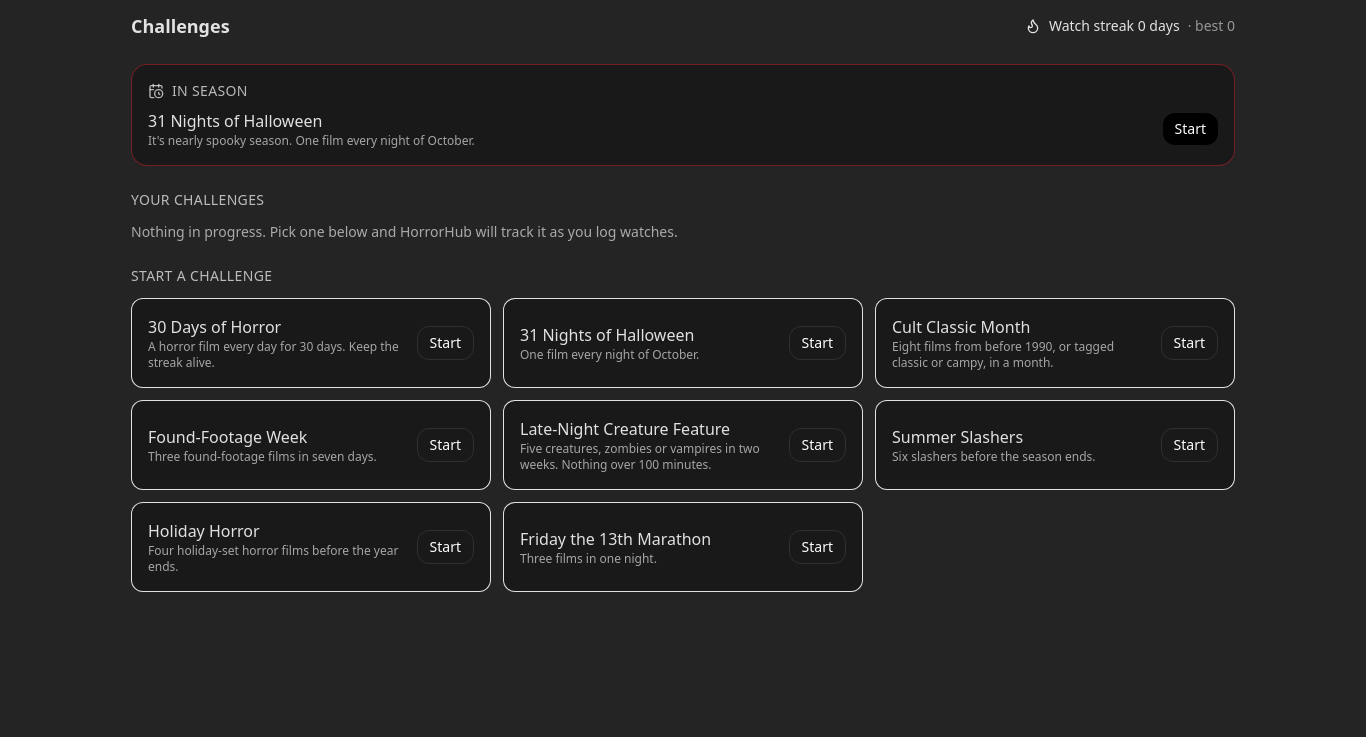
Test: challenge start and daily plan › offers to start an upcoming challenge today
Click the button "Start" in the row of "It's nearly spooky season" at (1190, 129), box [1163,113,1218,145]
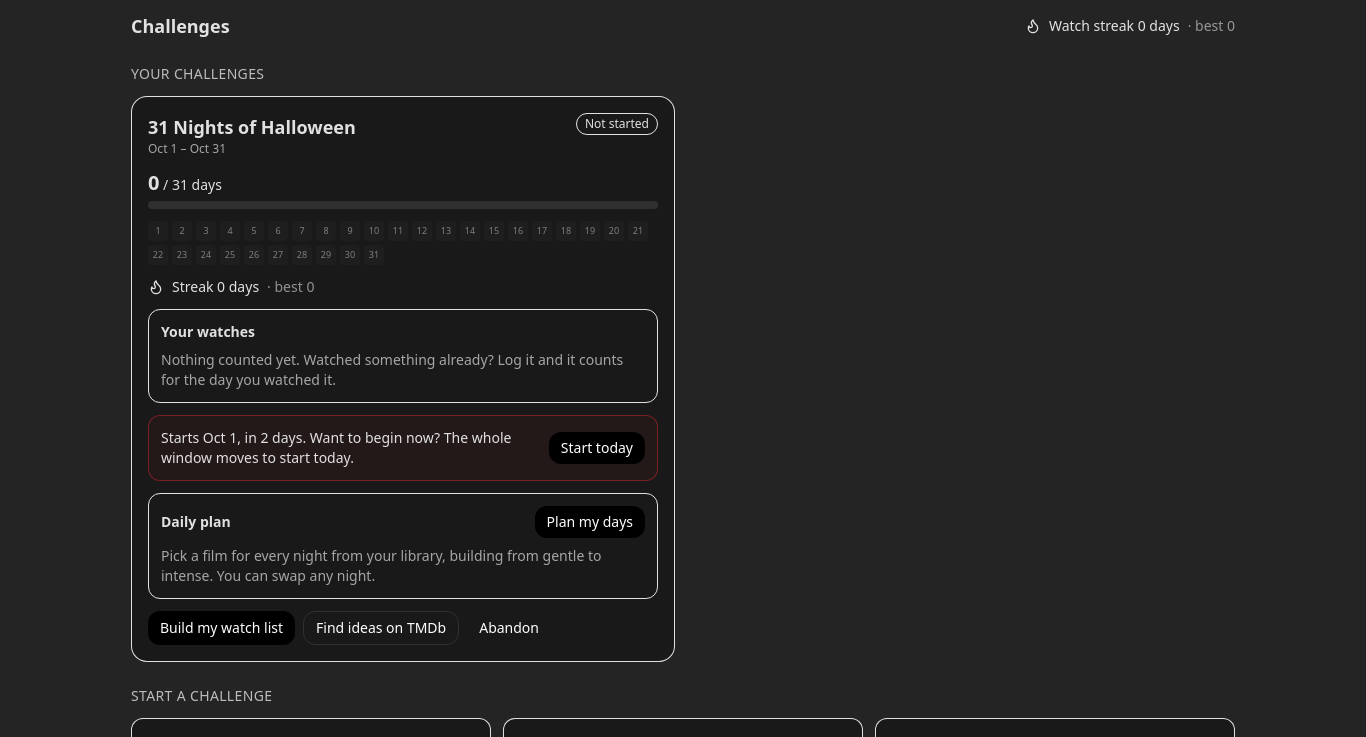
Result: the text "Not started" is shown at [576,113,658,135]
Result: the text "Starts Oct 1, in 2 days" is shown at [161,428,541,468]
Click the button "Start today" at (597, 448), box [549,432,645,464]
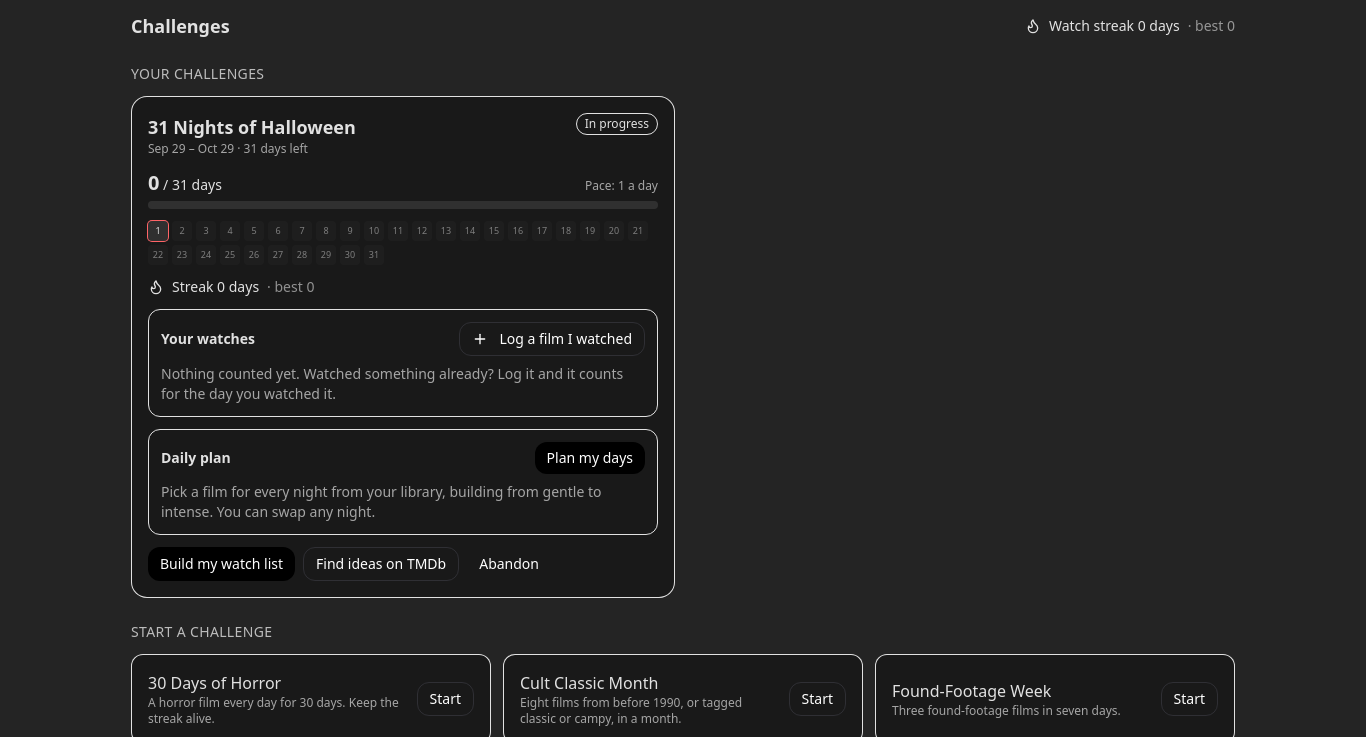
Result: the text "In progress" is shown at [576,113,658,135]
Result: the text "Not started" is gone
Result: the text "Sep 29 – Oct 29 · 31 days left" is shown at [148,140,308,157]
